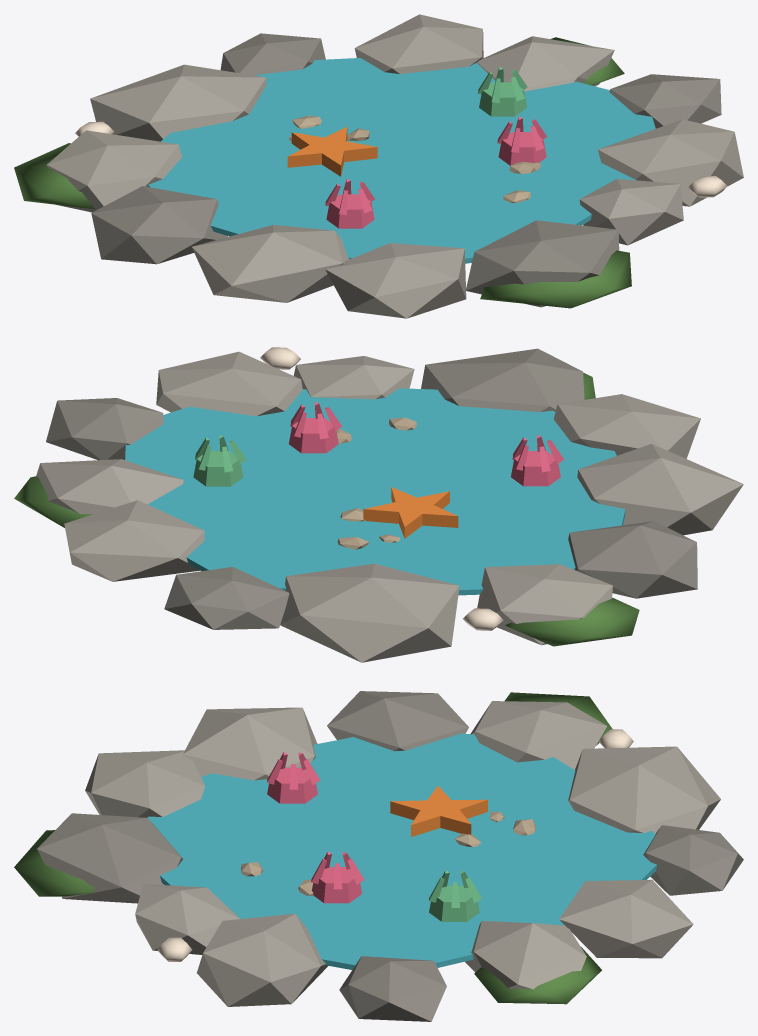
The model's file is tidepool.glb.
3 views of the same model, one above another, from view 1: azimuth 30°, elevation 25°; view 2: azimuth 150°, elevation 25°; view 3: azimuth 270°, elevation 25° (orthographic). The views are drawn at different scales.
Visible parts, largest first — view 1: tidepool; view 2: tidepool; view 3: tidepool.
Part boxes in pixels (bbox=[...]): tidepool: bbox=[14, 14, 743, 318]; tidepool: bbox=[14, 347, 743, 662]; tidepool: bbox=[14, 691, 743, 1021].
Size of the model in its own units: 1.04 by 0.1217 by 0.992.
